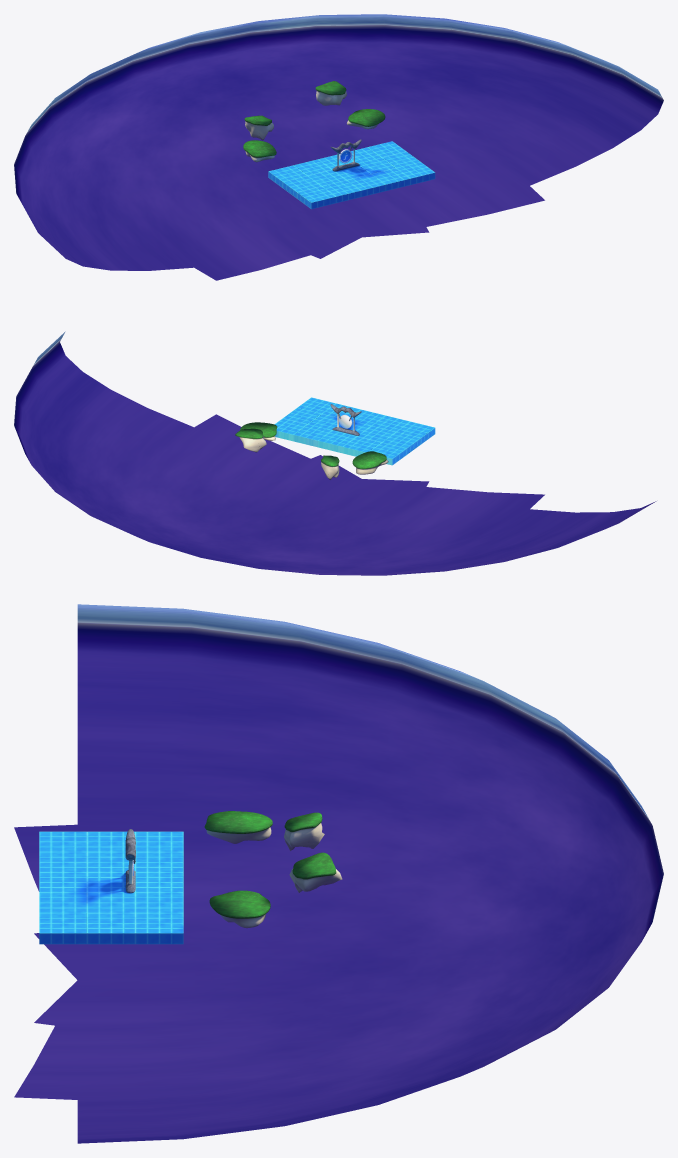
The model's file is stage3d_outline.glb.
3 renders of one model, top to bottom at view 1: azimuth 30°, elevation 25°; view 2: azimuth 150°, elevation 25°; view 3: azimuth 270°, elevation 25°, orthographic. The views are drawn at different scales.
Visible parts, largest first — view 1: Empty, Platform, Island 4, Island 2, Island 1, Island 3; view 2: Empty, Platform, Island 1, Island 4; view 3: Empty, Platform, Island 1, Island 2, Island 4, Island 3.
Part boxes in pixels (x1,y1,x2,y2): Empty: (14, 14, 663, 280); Platform: (268, 141, 435, 209); Island 4: (315, 81, 346, 105); Island 2: (347, 109, 385, 129); Island 1: (243, 140, 276, 162); Island 3: (244, 115, 273, 140); Empty: (14, 331, 656, 575); Platform: (274, 397, 435, 465); Island 1: (352, 451, 388, 474); Island 4: (235, 428, 266, 452); Empty: (14, 604, 663, 1143); Platform: (39, 831, 183, 944); Island 1: (204, 811, 272, 843); Island 2: (209, 890, 270, 928); Island 4: (289, 852, 342, 892); Island 3: (284, 812, 324, 850).
Bounding box in the file's own units: 195 × 38.99 × 108.
2 materials, 2 textured.
